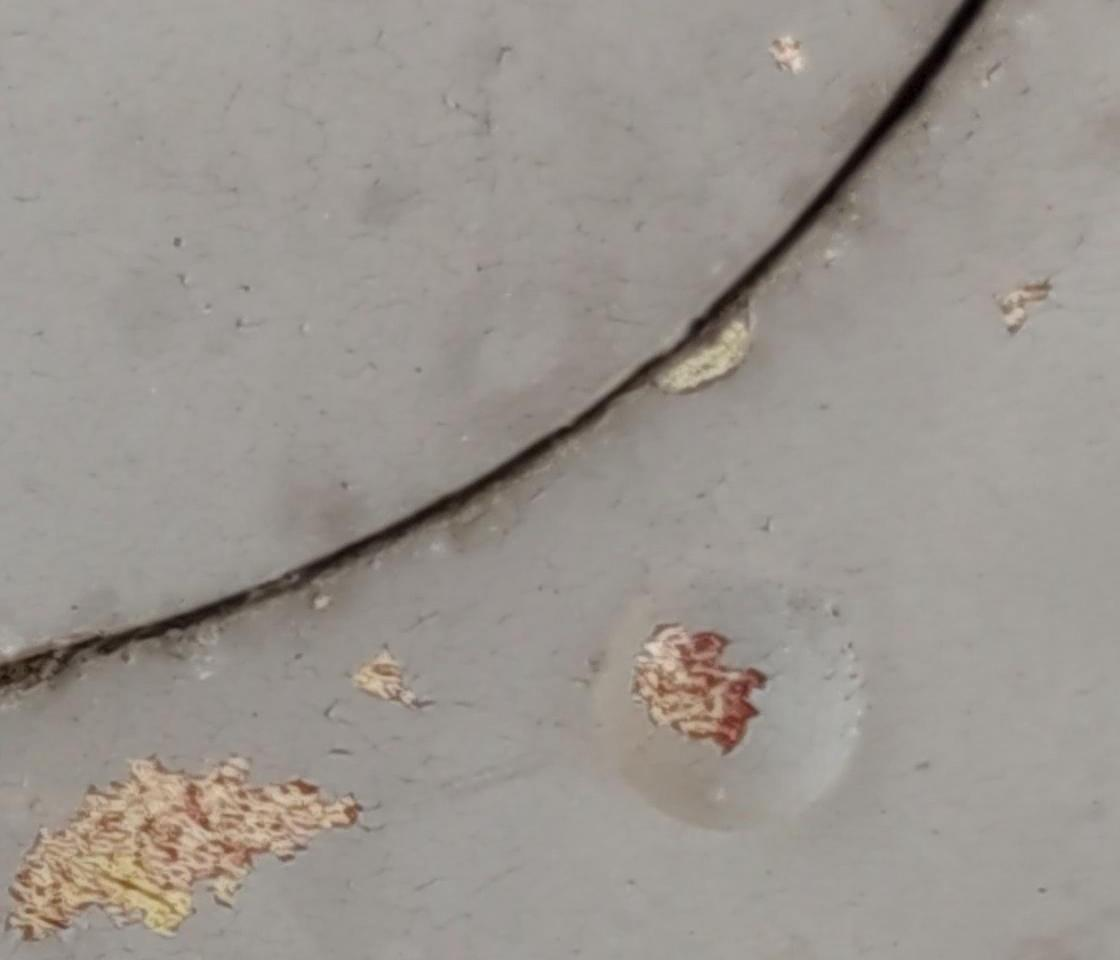paint_peel: (3, 756, 378, 943), (621, 616, 776, 764), (341, 642, 429, 717)
